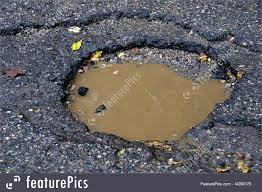pothole: (59, 38, 251, 151)
